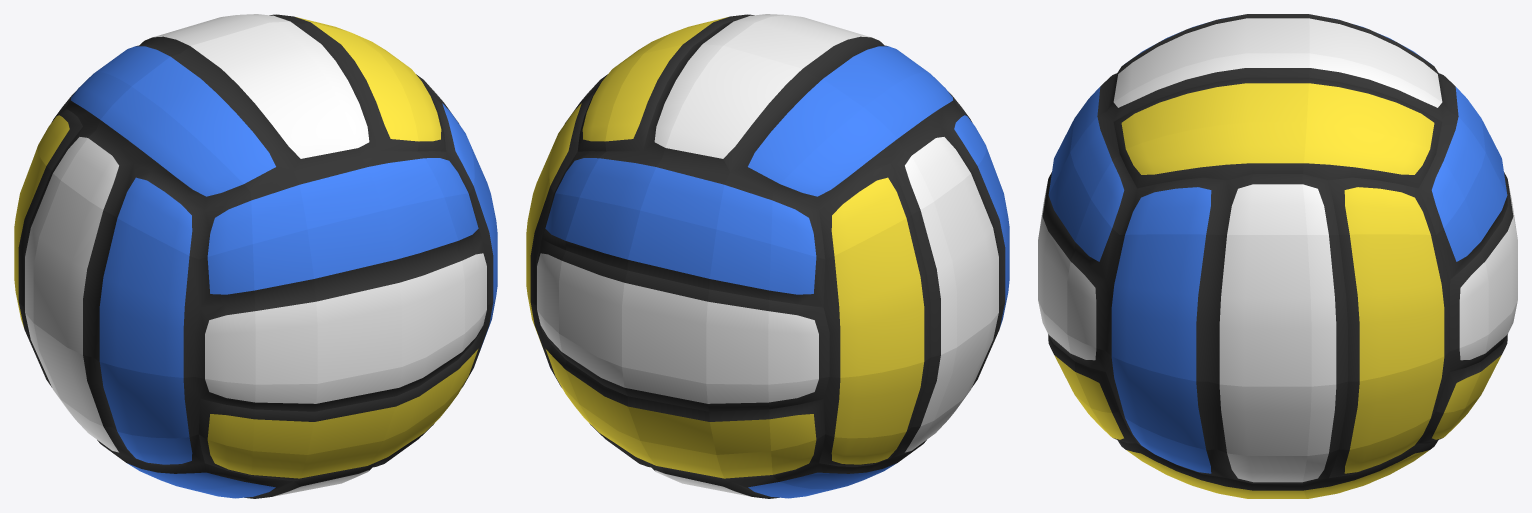
File: volley ball ok.fbx
The picture shows the model from 3 angles, left to right: view 1: azimuth 30°, elevation 25°; view 2: azimuth 150°, elevation 25°; view 3: azimuth 270°, elevation 25°; orthographic projection.
Visible parts, largest first — view 1: Cube; view 2: Cube; view 3: Cube.
Boxes of the visible parts, x1,y1,x2,y2 form: Cube: (14,14,497,498); Cube: (526,14,1009,498); Cube: (1038,14,1517,498).
Bounding box in the file's own units: 342 × 342 × 342.
